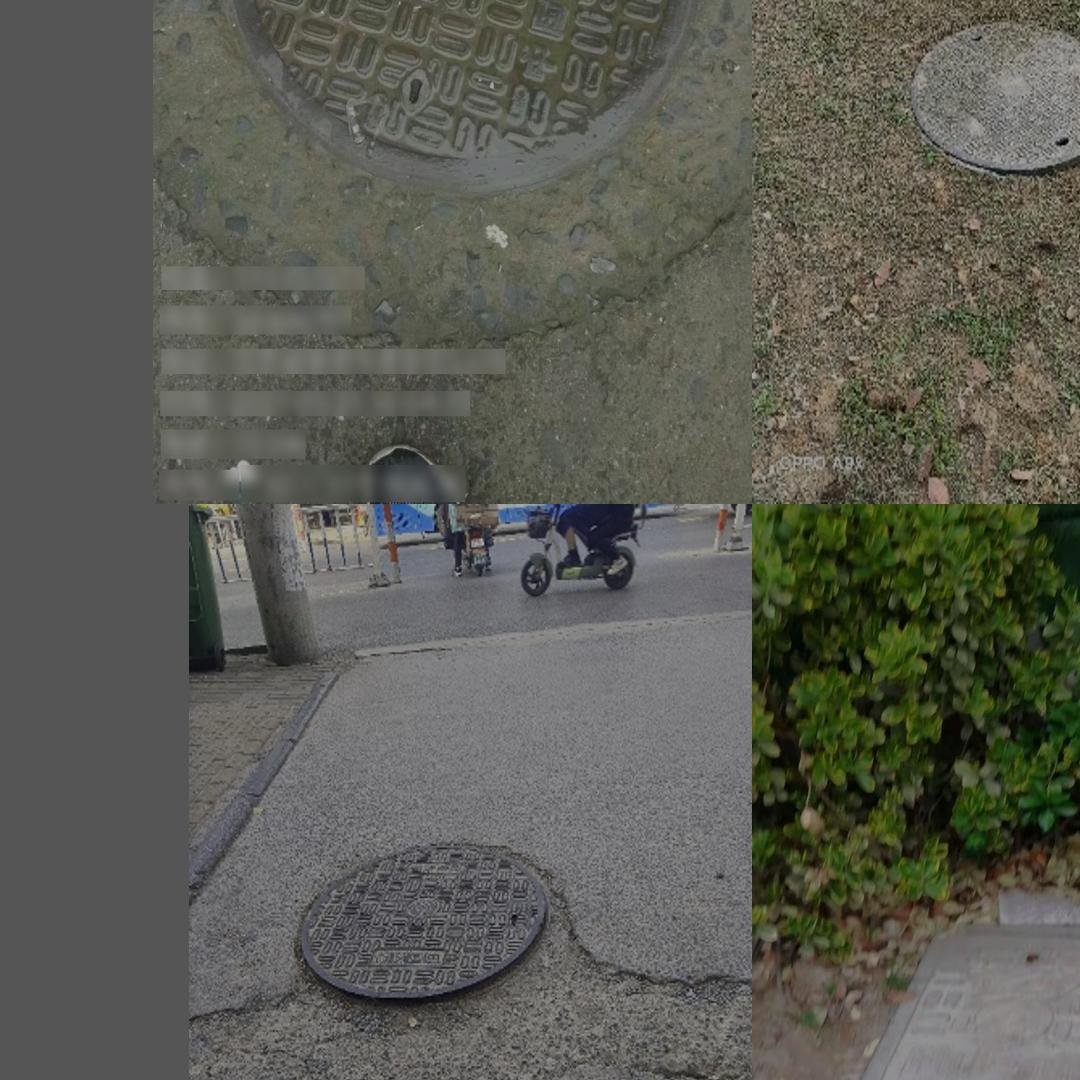good: (224, 0, 705, 200), (289, 843, 558, 1001), (823, 925, 1080, 1080), (909, 18, 1080, 169)
